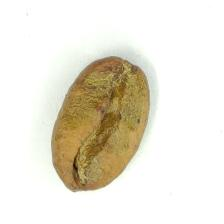NG: (84, 63, 139, 175)
